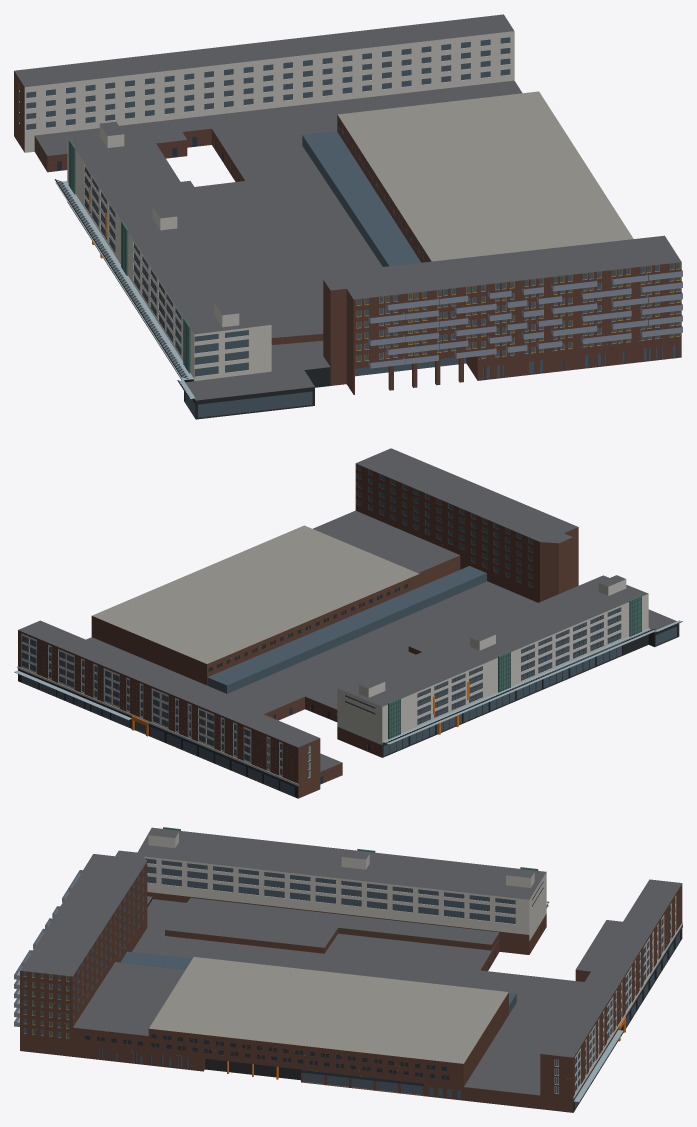
File: winkelcentrum-plein-40-45.glb
3 views of the same model, one above another, from view 1: azimuth 30°, elevation 25°; view 2: azimuth 150°, elevation 25°; view 3: azimuth 270°, elevation 25° (orthographic). The views are drawn at different scales.
Visible parts, largest first — view 1: winkelcentrum-plein-40-45; view 2: winkelcentrum-plein-40-45; view 3: winkelcentrum-plein-40-45.
Part boxes in pixels (box(x1,y1,x2,y2)): winkelcentrum-plein-40-45: box(14, 14, 682, 419); winkelcentrum-plein-40-45: box(14, 448, 682, 798); winkelcentrum-plein-40-45: box(14, 827, 682, 1112).
Bounding box in the file's own units: 159 × 24.69 × 186.
